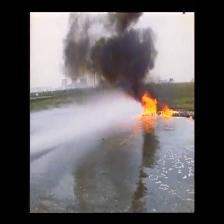fire: (143, 96, 156, 116), (163, 108, 171, 115)
smoke: (100, 40, 145, 79)
